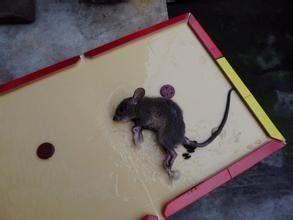rat: (113, 81, 205, 168)
